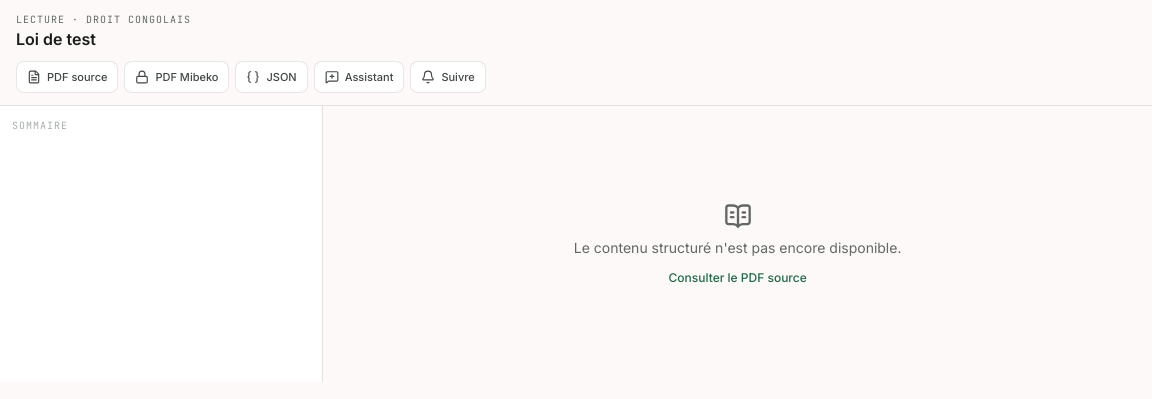
Test case: DocumentReaderView — suivi (mibeko-dashboard#125) › bascule suivre/ne plus suivre le texte lu
What coordinates should you click on to do the following:
click the button titled "Suivre"
I would click on:
 (448, 77)
Its box is [410, 61, 486, 93].
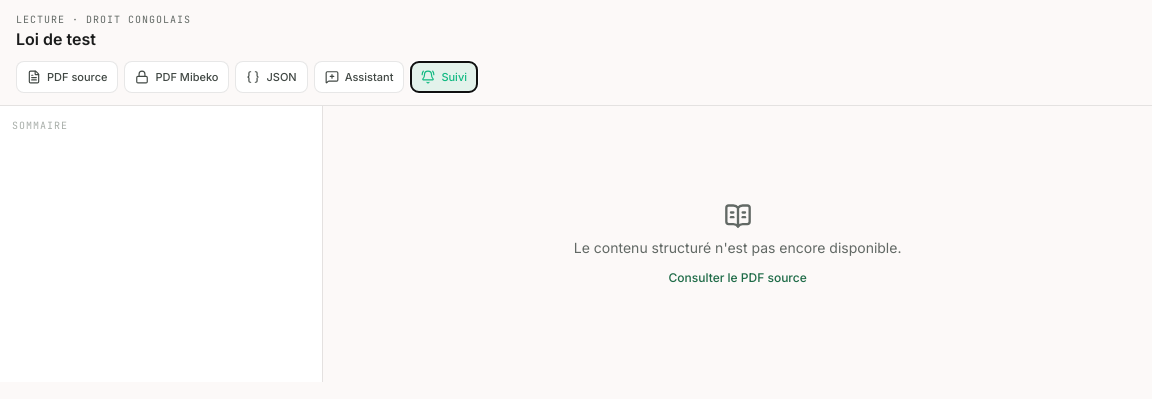
expect the button titled "Suivi" is shown: met
What coordinates should you click on to do the following:
click the button titled "Suivi"
I would click on:
 (444, 77)
Its box is [410, 61, 478, 93].
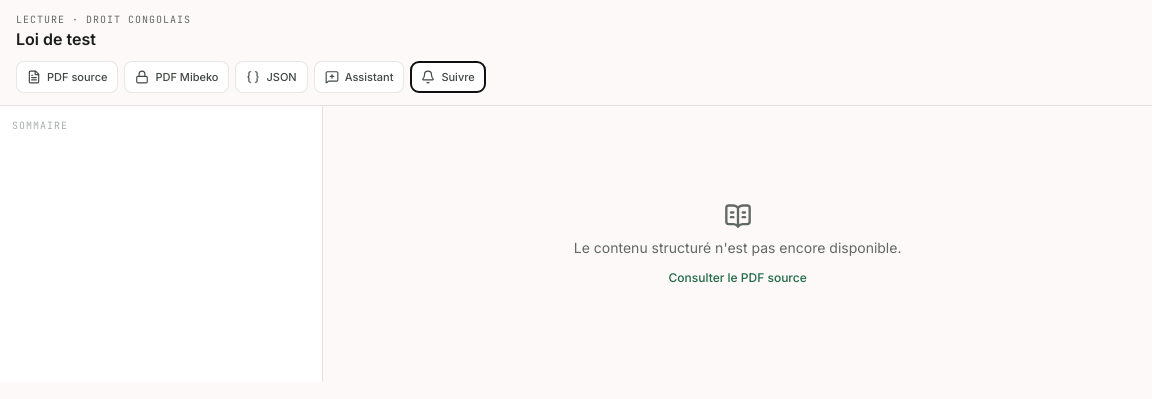
expect the button titled "Suivre" is shown: met, box [410, 61, 486, 93]
